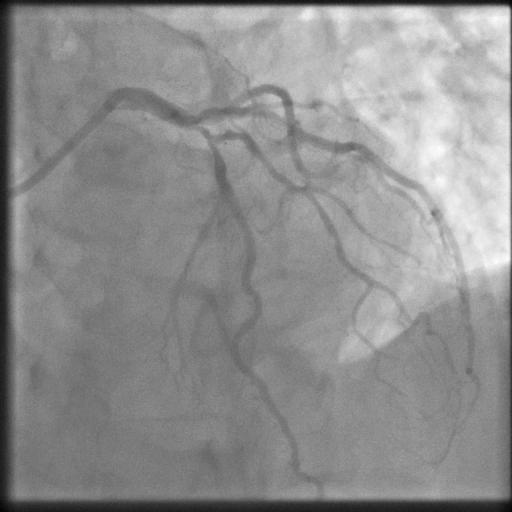Stenosis: (188, 120, 219, 157)
